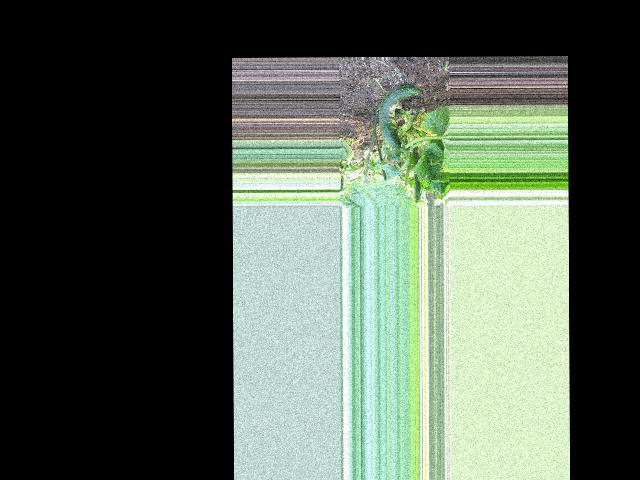cucumber: (378, 84, 420, 150)
